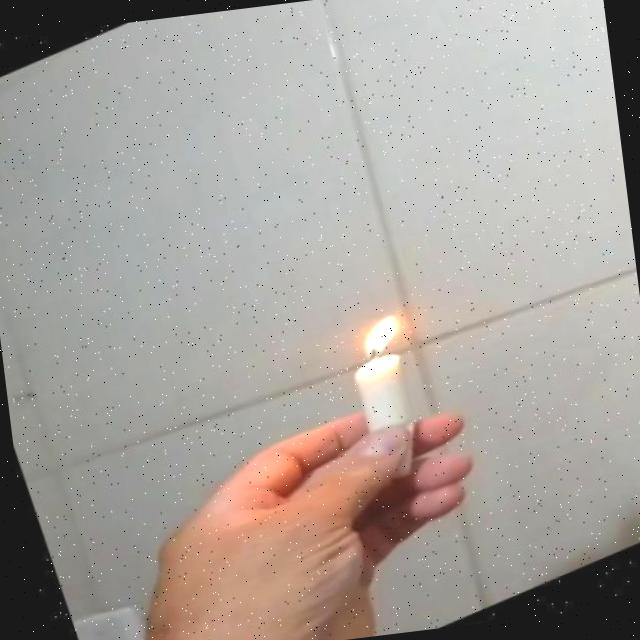fire: (343, 310, 414, 372)
